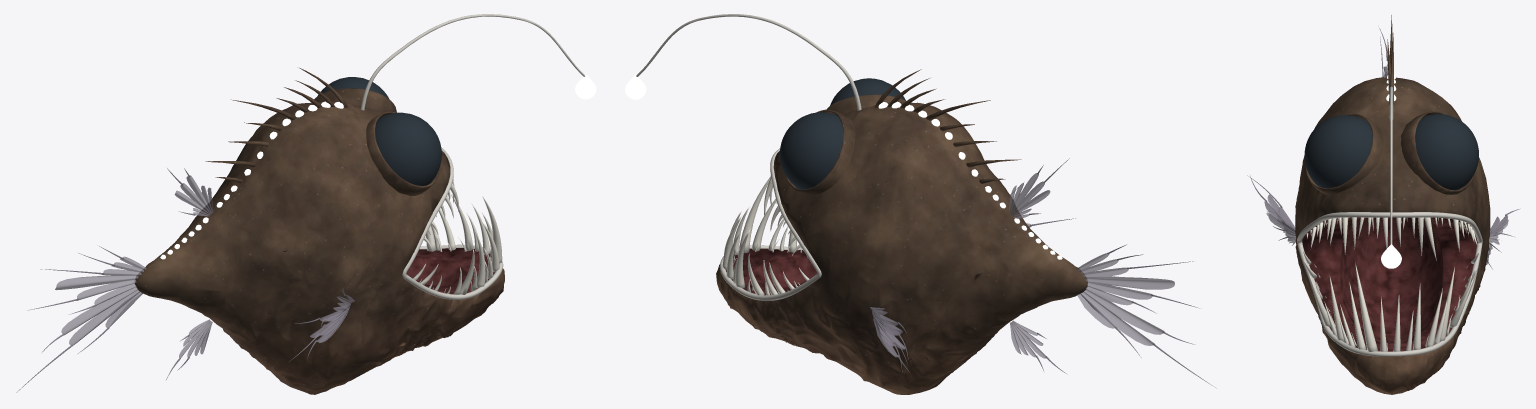
File: anglerfish.glb
3 renders of one model, left to right at view 1: azimuth 30°, elevation 25°; view 2: azimuth 150°, elevation 25°; view 3: azimuth 270°, elevation 25°, orthographic. The views are drawn at different scales.
Visible parts, largest first — view 1: AnglerSkin, CaudalFin, Eye_R, Teeth, Lip, Illicium, DorsalFin, PectoralFin_R, AnalFin, Photophores, Eye_L; view 2: AnglerSkin, CaudalFin, Eye_L, Teeth, Lip, DorsalFin, PectoralFin_L, Illicium, AnalFin, Eye_R, Photophores; view 3: AnglerSkin, Teeth, Eye_R, Eye_L, Lip, PectoralFin_R, Illicium, PectoralFin_L, Esca.
Part boxes in pixels (box(x1,y1,x2,y2)): AnglerSkin: box(134, 68, 504, 394); CaudalFin: box(16, 246, 146, 392); Eye_R: box(375, 112, 441, 185); Teeth: box(413, 179, 502, 294); Lip: box(402, 147, 503, 299); Illicium: box(360, 14, 585, 110); DorsalFin: box(167, 168, 213, 216); PectoralFin_R: box(288, 288, 354, 362); AnalFin: box(166, 319, 212, 379); Photophores: box(160, 101, 343, 259); Eye_L: box(317, 77, 388, 98); AnglerSkin: box(716, 69, 1087, 394); CaudalFin: box(1076, 244, 1216, 388); Eye_L: box(780, 112, 843, 189); Teeth: box(722, 175, 809, 295); Lip: box(719, 148, 821, 300); DorsalFin: box(1009, 158, 1069, 218); PectoralFin_L: box(870, 307, 909, 372); Illicium: box(636, 14, 861, 110); AnalFin: box(1010, 320, 1067, 374); Eye_R: box(830, 78, 905, 105); Photophores: box(878, 101, 1062, 259); AnglerSkin: box(1295, 15, 1490, 394); Teeth: box(1303, 217, 1479, 351); Eye_R: box(1304, 115, 1372, 188); Eye_L: box(1415, 114, 1478, 190); Lip: box(1297, 212, 1482, 356); PectoralFin_R: box(1247, 175, 1295, 245); Illicium: box(1389, 86, 1393, 244); PectoralFin_L: box(1486, 208, 1520, 269); Esca: box(1381, 244, 1401, 268).
Size of the model in its own units: 5.35 by 2.91 by 2.23.
7 materials, 1 textured.
